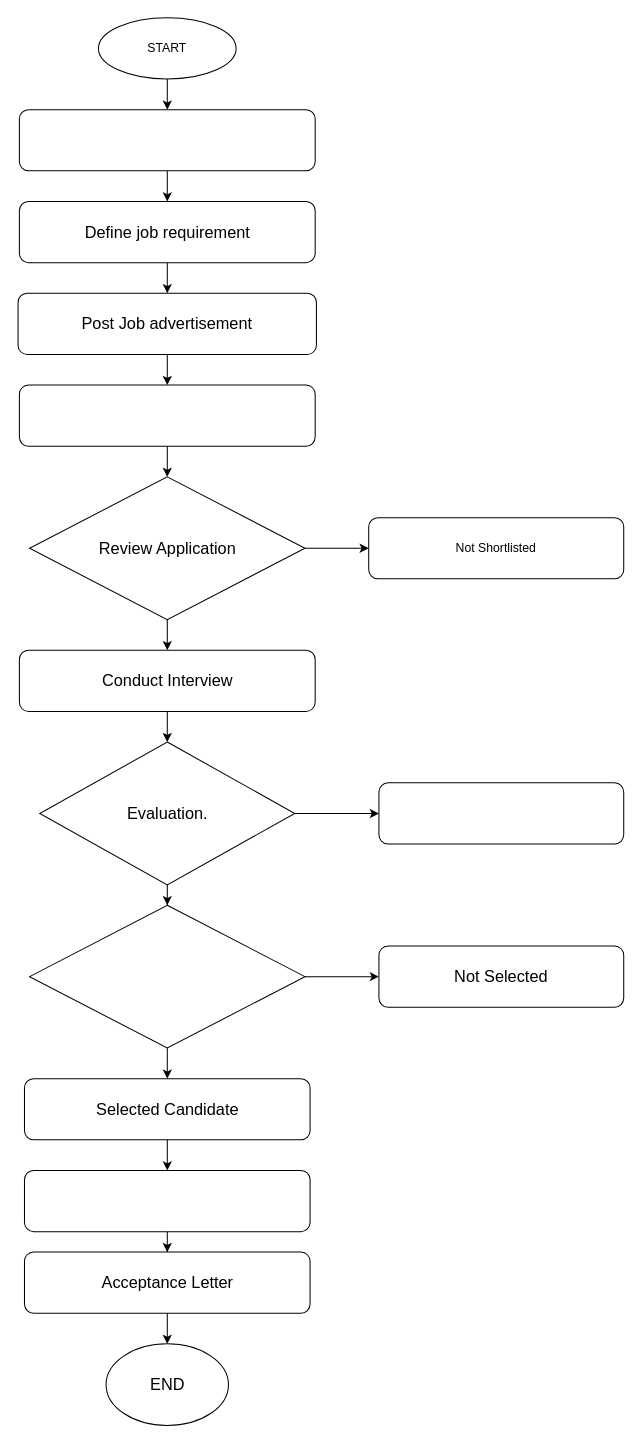
The diagram is 642 pixels wide and 1443 high, and some of its shapes have lost their labels. Here are the shapes that lost their labels. From the top down, the box of each, then its label:
(18, 109, 315, 171): Identify Job opening
(18, 384, 315, 446): Job Application Receive
(378, 782, 624, 844): Not up-to the mark
(29, 904, 305, 1048): Reference Check
(23, 1169, 310, 1232): Offer Letter
